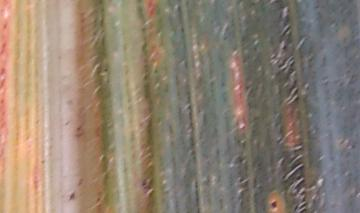tarspot: (140, 180, 149, 192), (67, 192, 77, 201), (270, 200, 278, 209)
